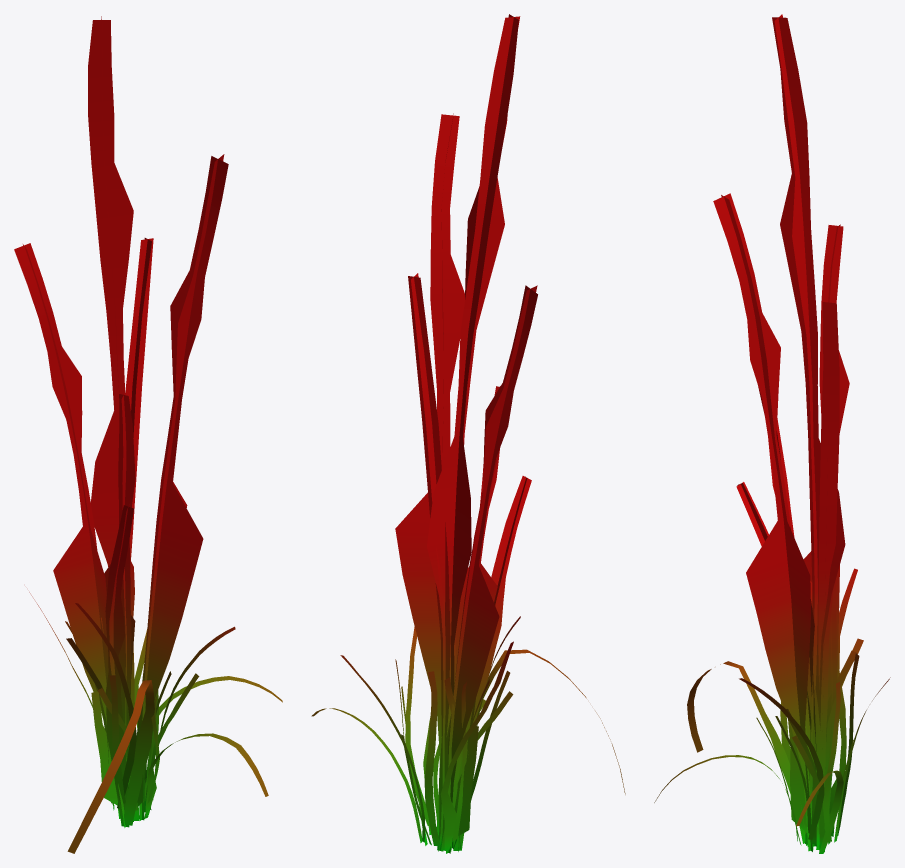
File: slBiJ_Var3_LOD0.fbx
The picture shows the model from 3 angles, left to right: view 1: azimuth 30°, elevation 25°; view 2: azimuth 150°, elevation 25°; view 3: azimuth 270°, elevation 25°; orthographic projection. The views are drawn at different scales.
Parts seen in each view (by area): view 1: _2670_Var3_LOD0; view 2: _2670_Var3_LOD0; view 3: _2670_Var3_LOD0.
Boxes of the visible parts, box(x1,y1,x2,y2) form: _2670_Var3_LOD0: box(14, 16, 282, 853); _2670_Var3_LOD0: box(311, 14, 625, 853); _2670_Var3_LOD0: box(654, 14, 890, 853).
Size of the model in its own units: 23.04 by 69.24 by 18.3.
